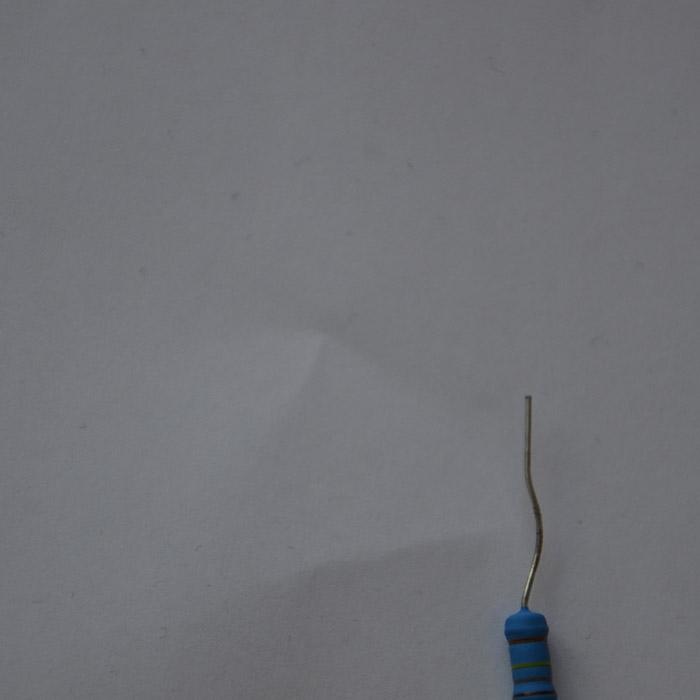resistor: (503, 605, 558, 700)
